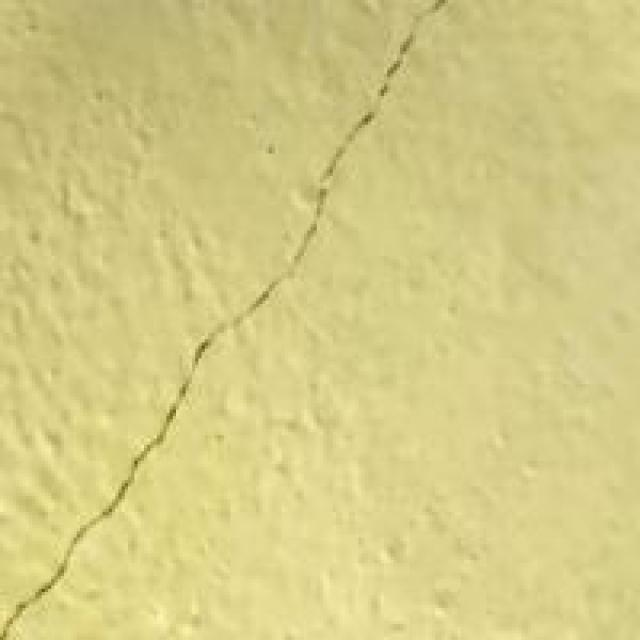crack: (9, 0, 454, 637)
